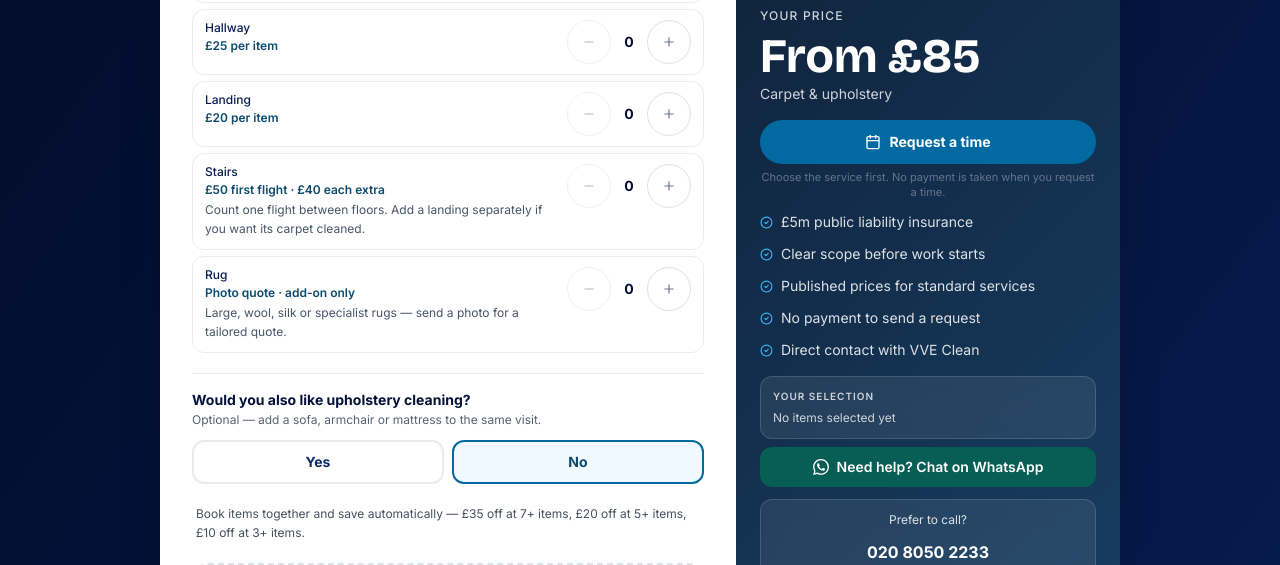
Scenario: Carpet page — optional upholstery disclosure › requires a photo assessment when a rug accompanies a carpet item
The image size is (1280, 565).
(page scrolled)
Click the button named "Increase Rug quantity": click(669, 289) [647,267,691,311]
(page scrolled)
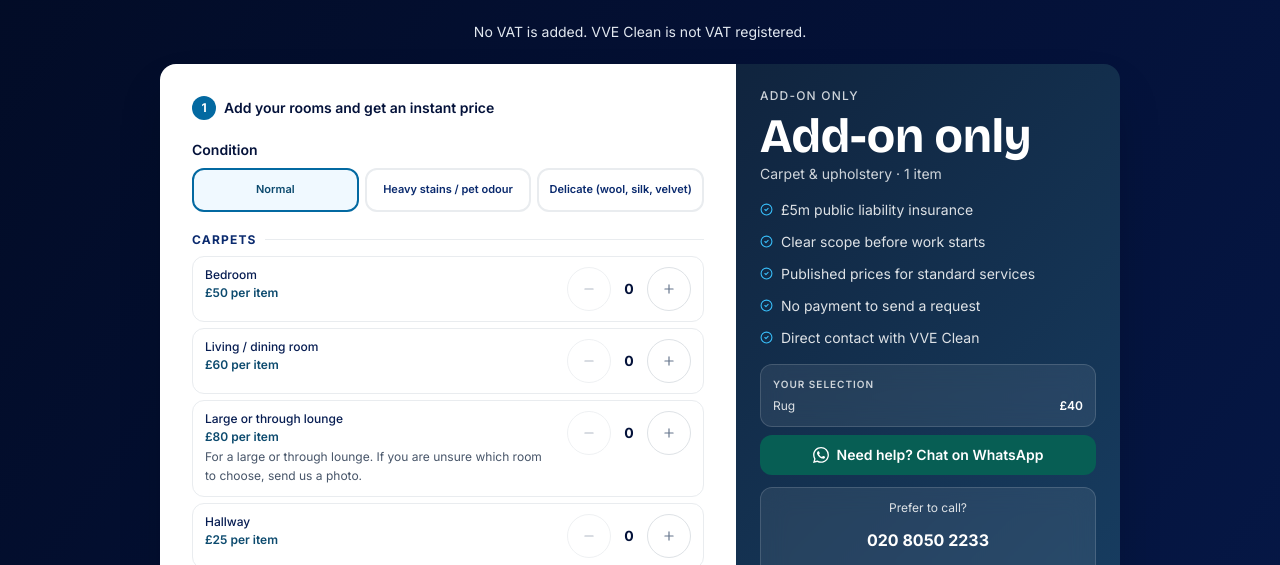
Click the button named "Increase Bedroom quantity": click(669, 289) [647,267,691,311]
(page scrolled)
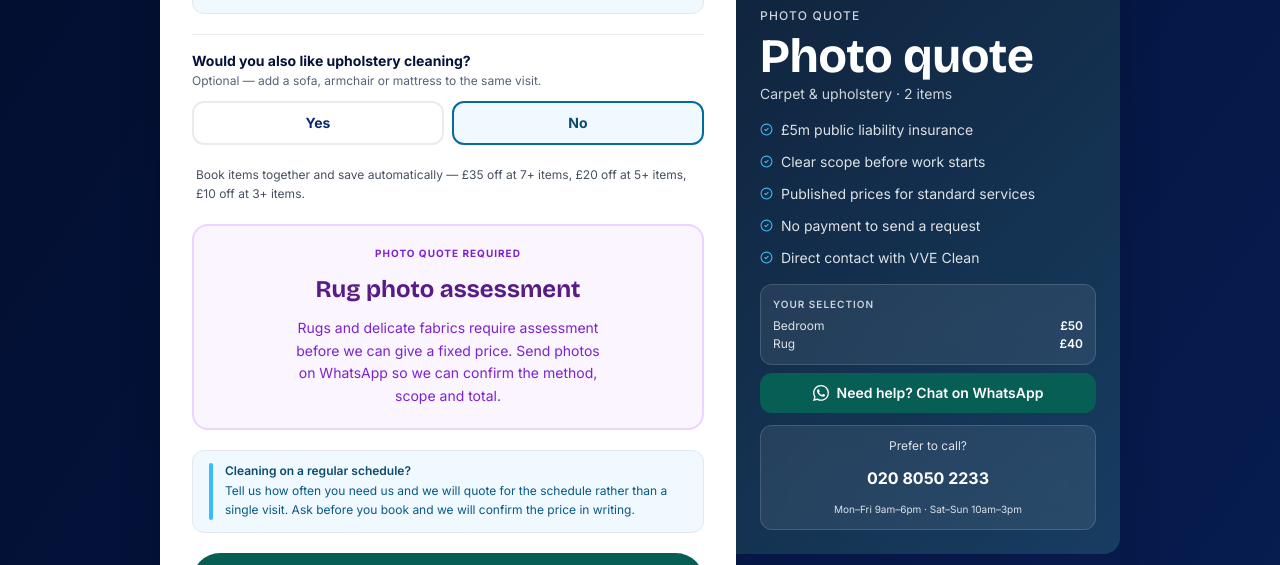
Check: the text "Rug photo assessment" is shown, box [316,275,580,303]
